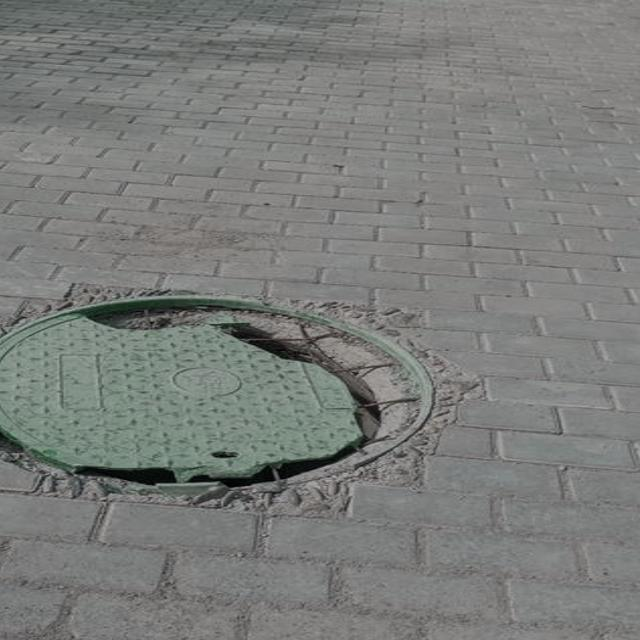broke: (0, 290, 482, 504)
